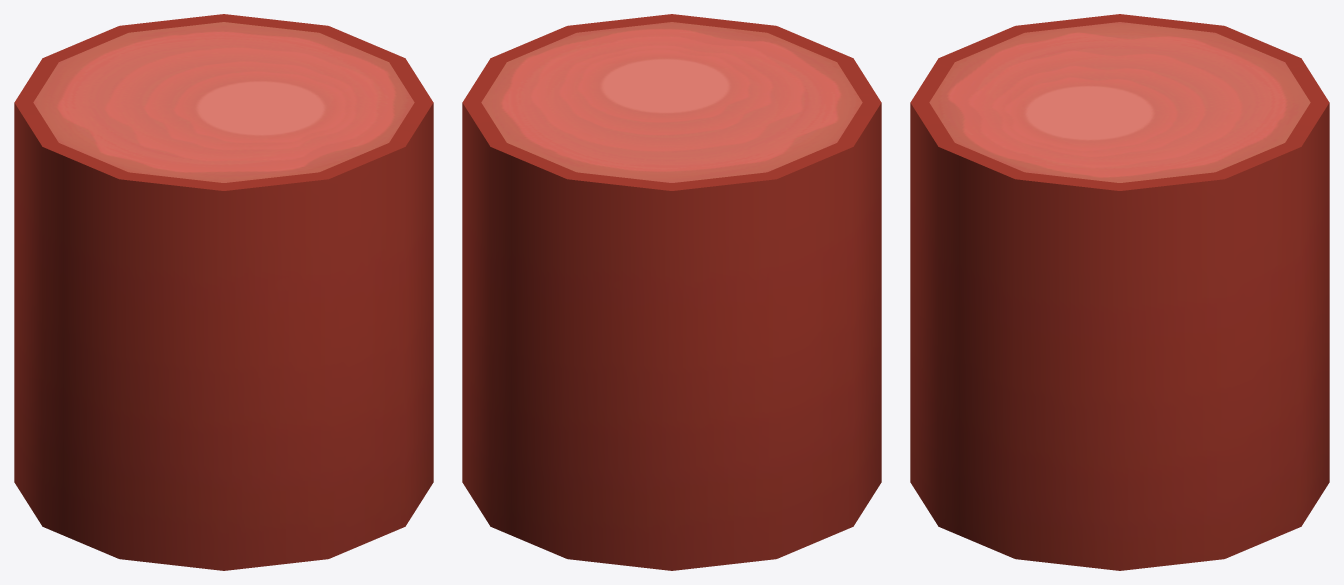
Rendered from Wood.fbx.
The picture shows the model from 3 angles, left to right: view 1: azimuth 30°, elevation 25°; view 2: azimuth 150°, elevation 25°; view 3: azimuth 270°, elevation 25°; orthographic projection.
Visible parts, largest first — view 1: Wood; view 2: Wood; view 3: Wood.
Part boxes in pixels (x1,y1,x2,y2): Wood: [14, 14, 433, 570]; Wood: [462, 14, 881, 570]; Wood: [910, 14, 1329, 570].
Bounding box in the file's own units: 2 × 2 × 2.
Materials: 1 (1 with a texture image).
